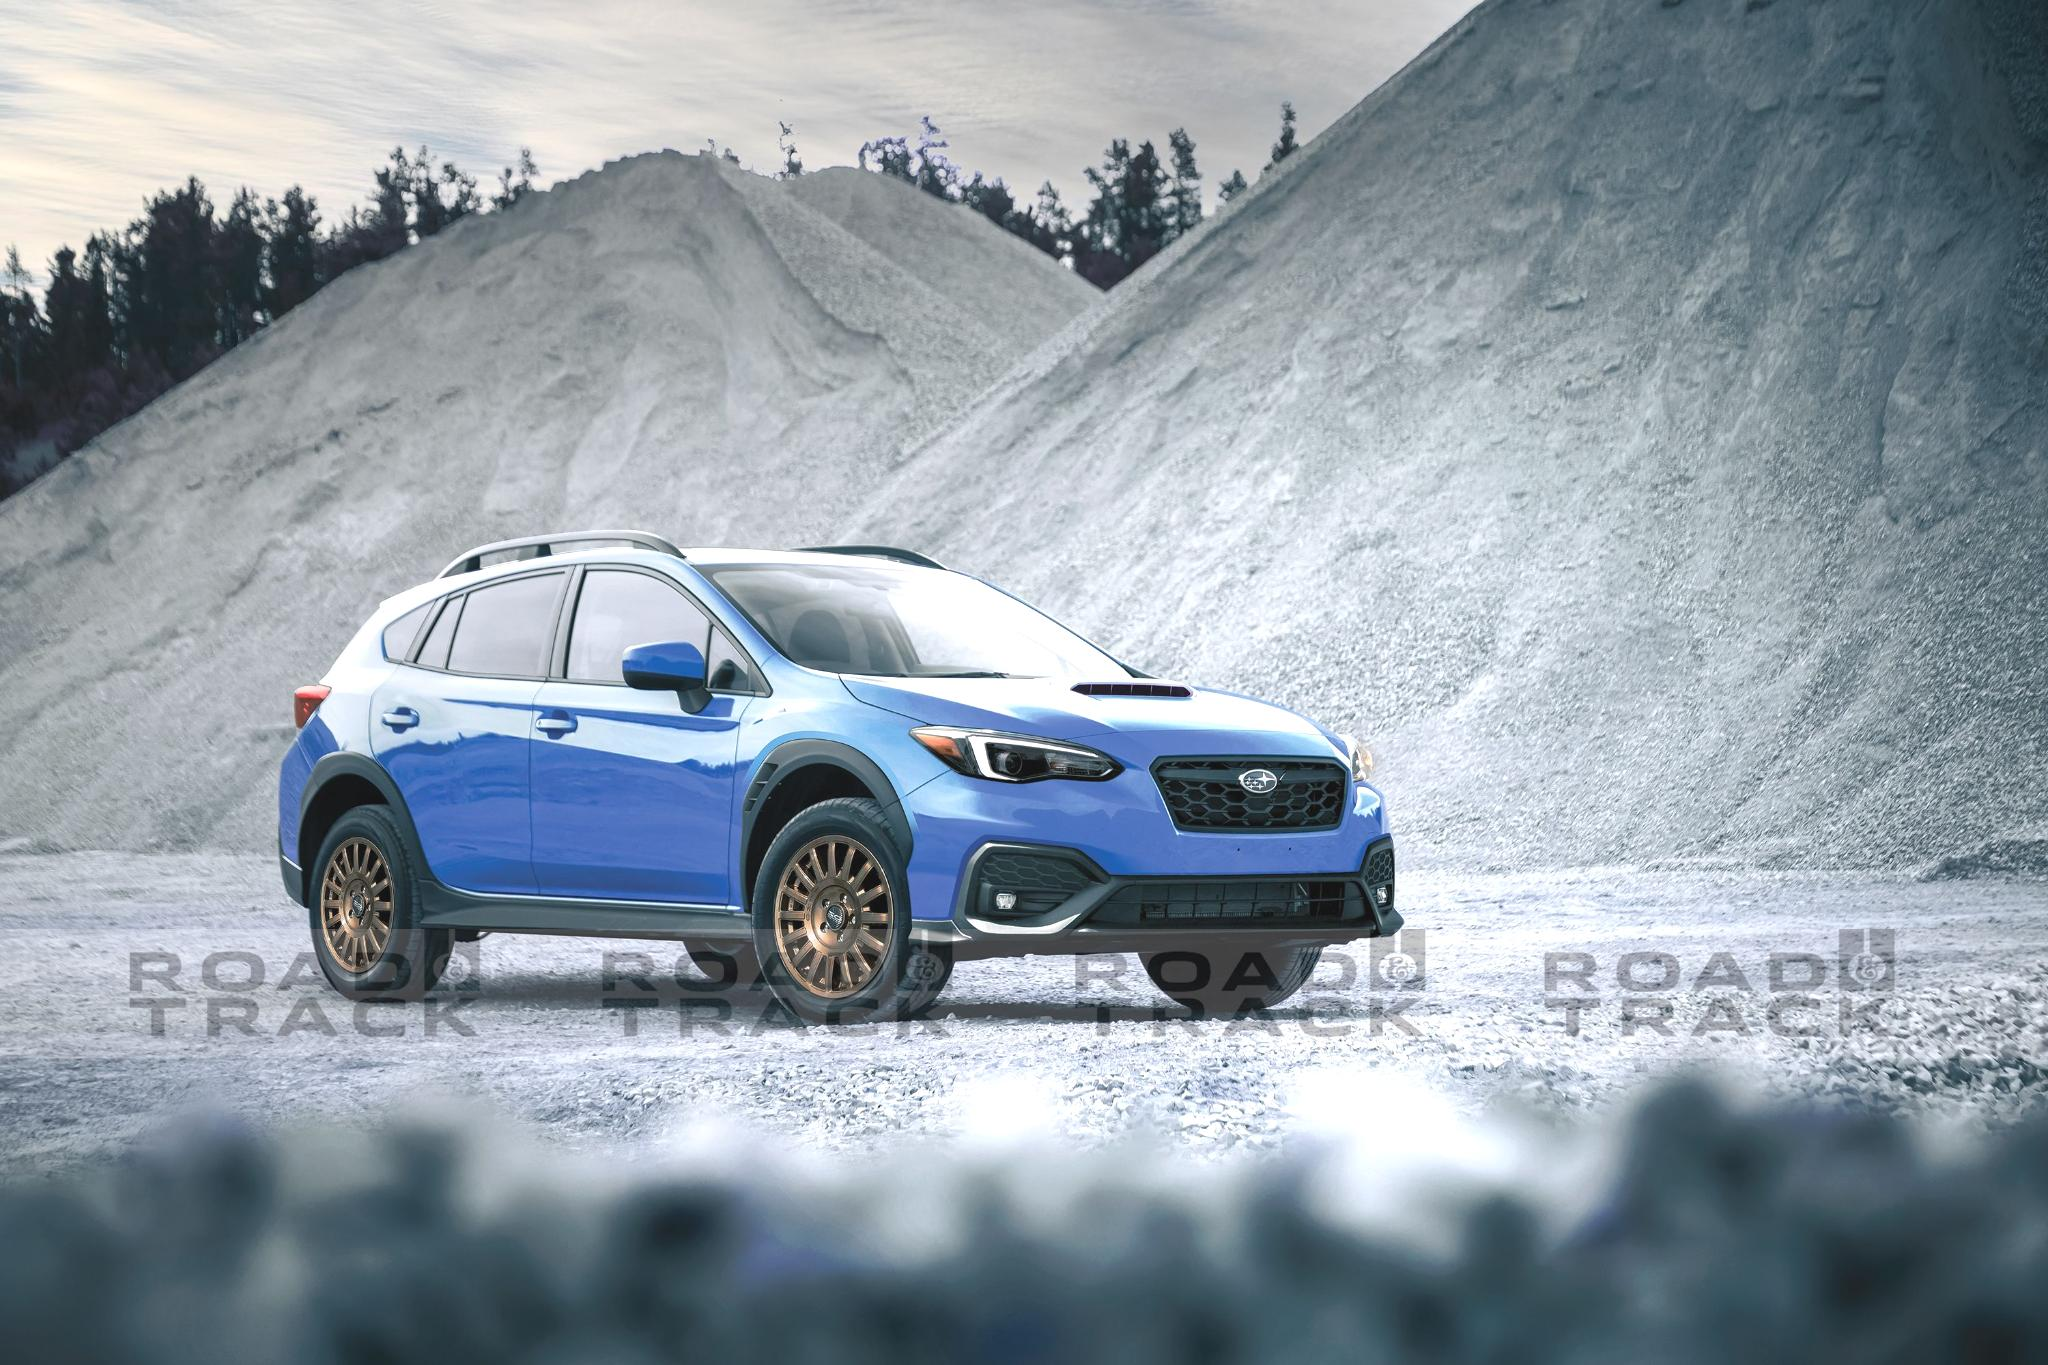subaru: (1224, 757, 1300, 809)
